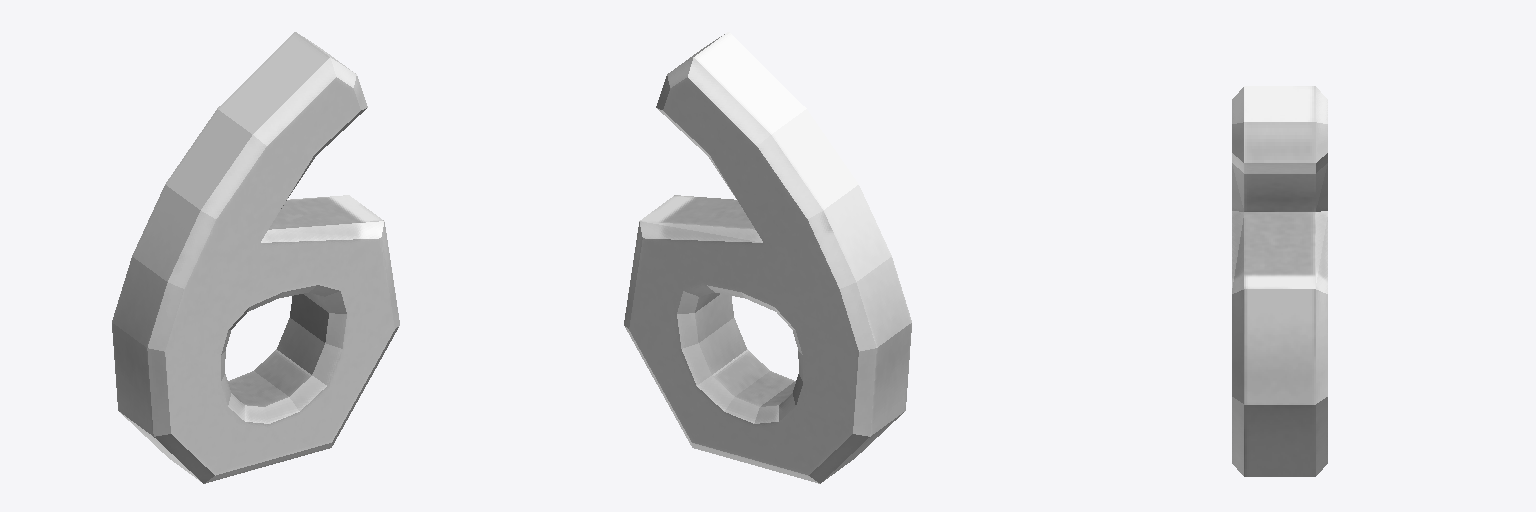
3 renders of one model, left to right at view 1: azimuth 30°, elevation 25°; view 2: azimuth 150°, elevation 25°; view 3: azimuth 270°, elevation 25°, orthographic.
Parts seen in each view (by area): view 1: Number_6; view 2: Number_6; view 3: Number_6.
Part boxes in pixels (left/top/right/bottom): Number_6: left=112, top=32, right=399, bottom=483; Number_6: left=624, top=32, right=911, bottom=483; Number_6: left=1232, top=86, right=1327, bottom=476.
Size of the model in its own units: 17.79 by 26.6 by 5.91.
Materials: 1 (1 with a texture image).